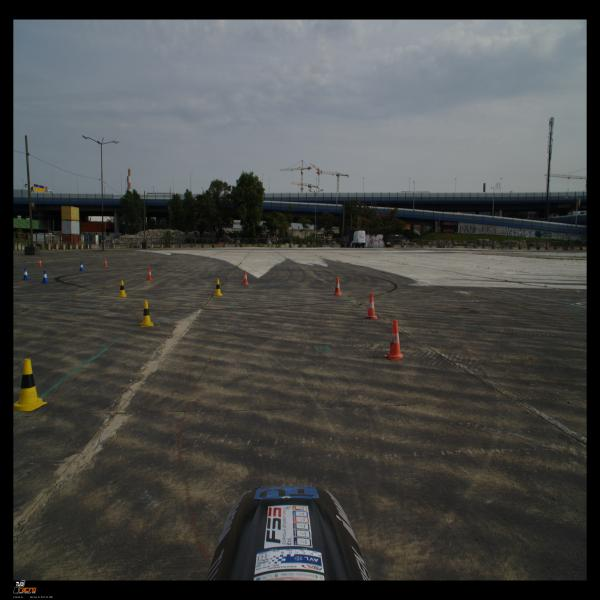blue_cone: (41, 270, 50, 283), (22, 268, 30, 280), (79, 262, 85, 271)
orange_cone: (384, 320, 404, 360), (366, 293, 378, 319), (332, 277, 343, 296), (241, 270, 249, 285), (146, 267, 152, 280), (38, 258, 43, 267), (104, 258, 108, 267)
yellow_cone: (14, 358, 48, 412), (139, 301, 154, 327), (213, 279, 223, 296), (118, 280, 128, 297)
